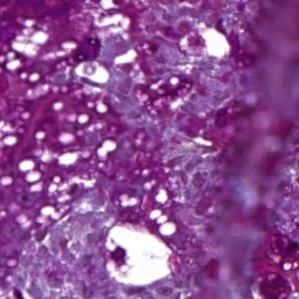ballooning: (104, 222, 175, 290)
